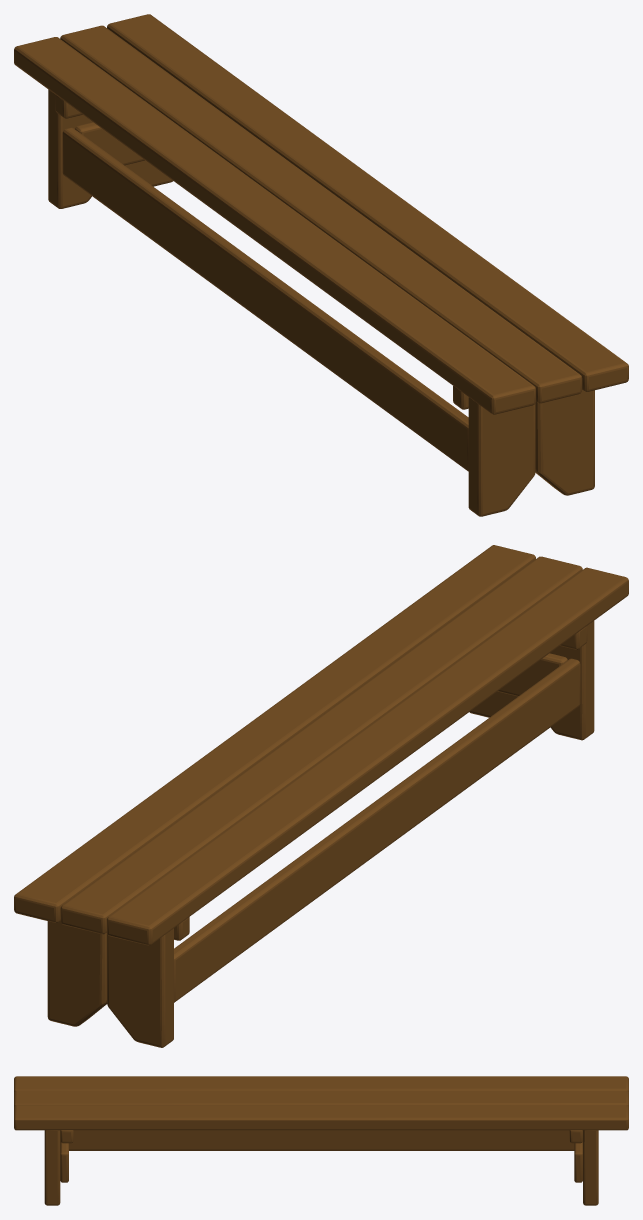
The model's file is TNK-05.dae.
The picture shows the model from 3 angles, top to bottom: view 1: azimuth 30°, elevation 25°; view 2: azimuth 150°, elevation 25°; view 3: azimuth 270°, elevation 25°; orthographic projection. The views are drawn at different scales.
Visible parts, largest first — view 1: korichnivieelementy; view 2: korichnivieelementy; view 3: korichnivieelementy.
Part boxes in pixels (bbox=[...]): korichnivieelementy: bbox=[14, 14, 628, 516]; korichnivieelementy: bbox=[14, 545, 628, 1047]; korichnivieelementy: bbox=[14, 1076, 628, 1205].
Size of the model in its own units: 32.69 by 32.1 by 197.
